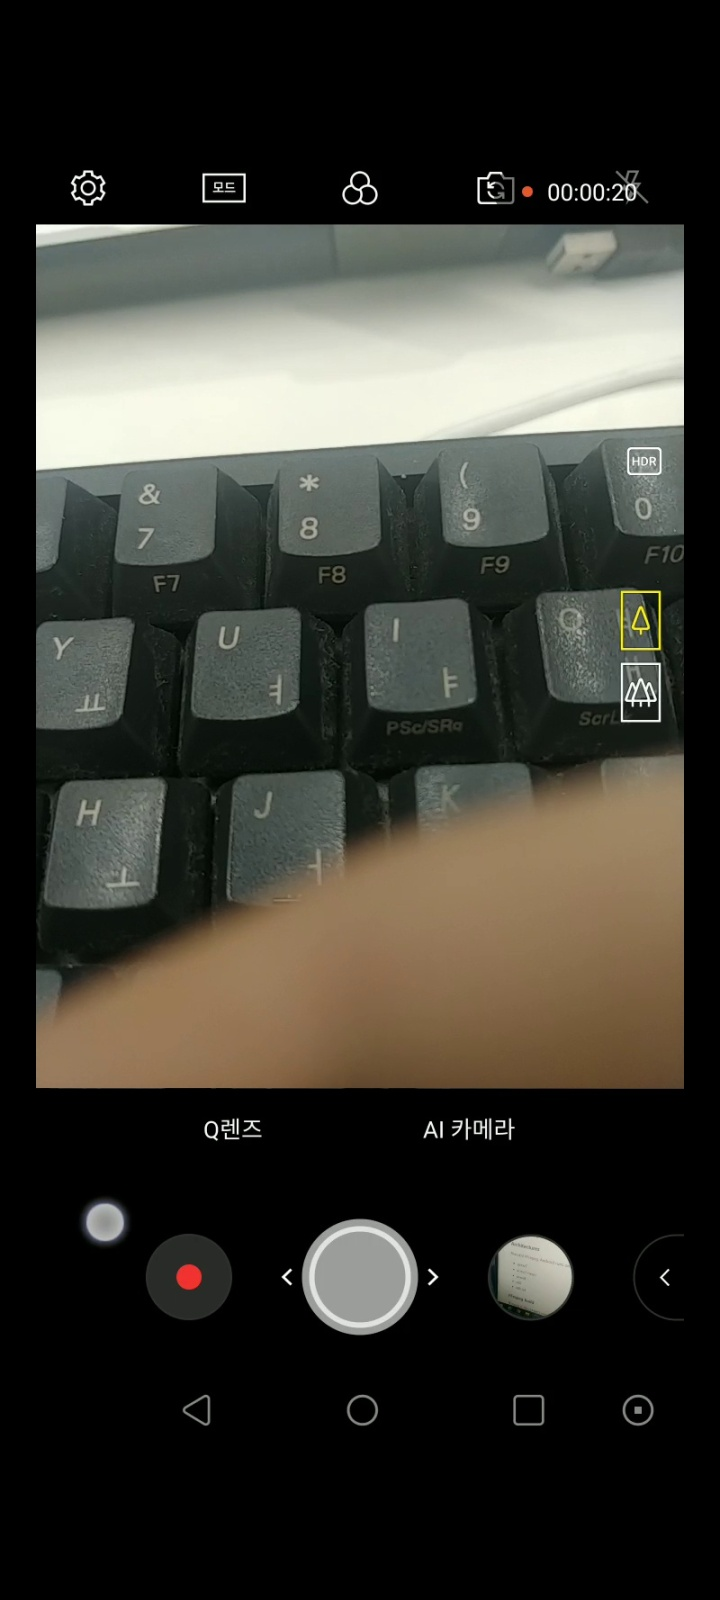Cursor: (82, 1201, 127, 1246)
